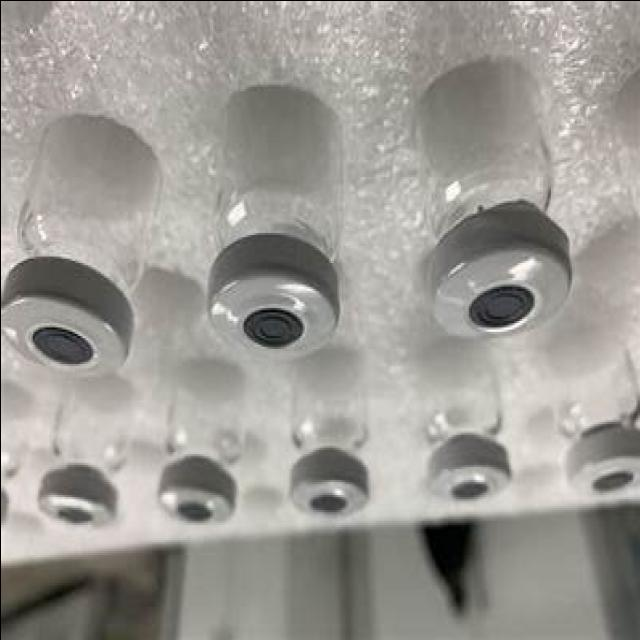vial: (431, 235, 568, 343), (7, 283, 124, 384), (210, 275, 340, 356), (414, 443, 506, 503), (286, 457, 369, 518), (150, 462, 230, 524), (568, 445, 640, 506), (36, 478, 110, 532), (0, 488, 11, 521)
